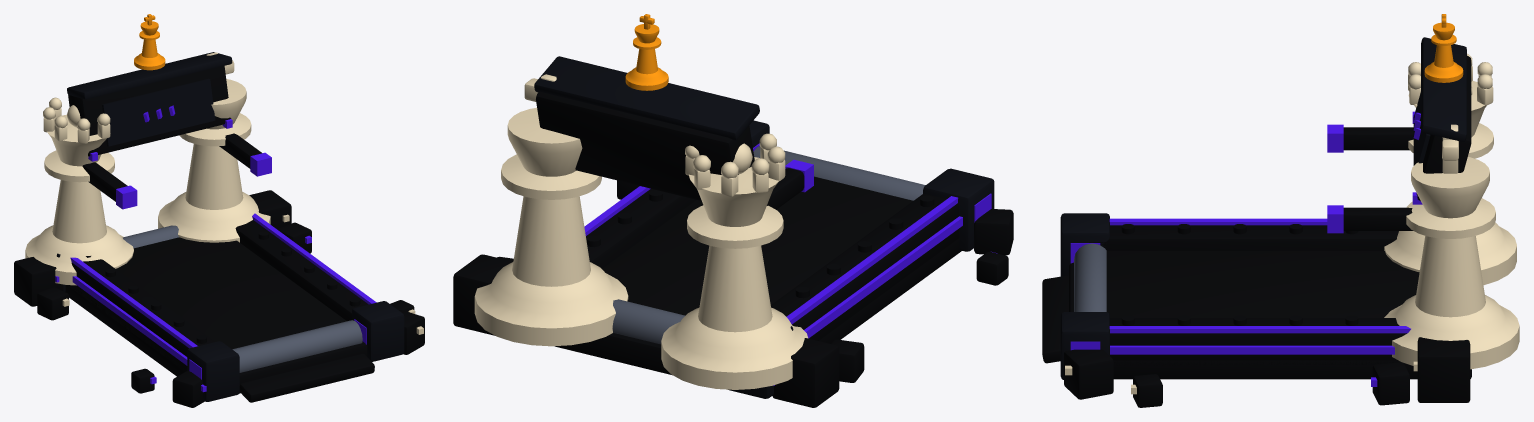
Rendered from GrandmasterGlide.obj.
3 renders of one model, left to right at view 1: azimuth 30°, elevation 25°; view 2: azimuth 150°, elevation 25°; view 3: azimuth 270°, elevation 25°, orthographic. The views are drawn at different scales.
Parts seen in each view (by area): view 1: GrandmasterGlide_Body, GrandmasterGlide_Chess, GrandmasterGlide_Belt, GrandmasterGlide_Panel, GrandmasterGlide_Spill, GrandmasterGlide_Neon, GrandmasterGlide_Steel, GrandmasterGlide_Prop; view 2: GrandmasterGlide_Chess, GrandmasterGlide_Body, GrandmasterGlide_Belt, GrandmasterGlide_Panel, GrandmasterGlide_Spill, GrandmasterGlide_Neon, GrandmasterGlide_Steel, GrandmasterGlide_Prop; view 3: GrandmasterGlide_Body, GrandmasterGlide_Chess, GrandmasterGlide_Belt, GrandmasterGlide_Neon, GrandmasterGlide_Spill, GrandmasterGlide_Panel, GrandmasterGlide_Steel, GrandmasterGlide_Prop.
Boxes of the visible parts, <box> form: GrandmasterGlide_Body: <box>65,66,374,402</box>; GrandmasterGlide_Chess: <box>25,52,423,334</box>; GrandmasterGlide_Belt: <box>116,237,346,349</box>; GrandmasterGlide_Panel: <box>56,52,404,401</box>; GrandmasterGlide_Spill: <box>14,190,424,407</box>; GrandmasterGlide_Neon: <box>55,105,376,392</box>; GrandmasterGlide_Steel: <box>122,225,362,372</box>; GrandmasterGlide_Prop: <box>134,14,165,70</box>; GrandmasterGlide_Chess: <box>474,74,807,389</box>; GrandmasterGlide_Body: <box>536,92,961,375</box>; GrandmasterGlide_Belt: <box>602,176,913,315</box>; GrandmasterGlide_Panel: <box>534,56,994,398</box>; GrandmasterGlide_Spill: <box>453,180,1013,407</box>; GrandmasterGlide_Neon: <box>584,143,997,385</box>; GrandmasterGlide_Steel: <box>612,146,925,344</box>; GrandmasterGlide_Prop: <box>625,14,668,90</box>; GrandmasterGlide_Body: <box>1042,55,1471,379</box>; GrandmasterGlide_Chess: <box>1065,53,1519,394</box>; GrandmasterGlide_Belt: <box>1106,251,1419,317</box>; GrandmasterGlide_Neon: <box>1070,111,1422,386</box>; GrandmasterGlide_Spill: <box>1064,337,1470,407</box>; GrandmasterGlide_Panel: <box>1060,37,1471,379</box>; GrandmasterGlide_Steel: <box>1074,243,1106,311</box>; GrandmasterGlide_Prop: <box>1424,14,1463,82</box>.
Size of the model in its own units: 12 by 10.48 by 14.51.
